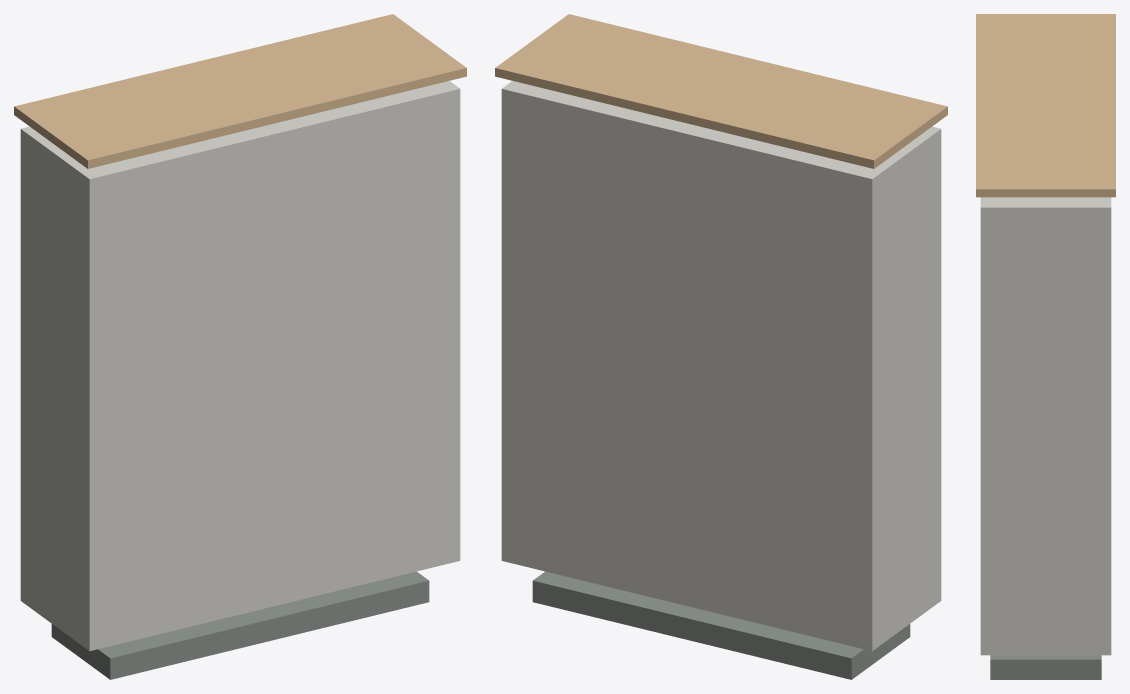
Rendered from wardrobe.glb.
The picture shows the model from 3 angles, left to right: view 1: azimuth 30°, elevation 25°; view 2: azimuth 150°, elevation 25°; view 3: azimuth 270°, elevation 25°; orthographic projection. The views are drawn at different scales.
Visible parts, largest first — view 1: wardrobe_ivory_0, wardrobe_oak_1, wardrobe_dark_2; view 2: wardrobe_ivory_0, wardrobe_oak_1, wardrobe_dark_2; view 3: wardrobe_ivory_0, wardrobe_oak_1, wardrobe_dark_2.
Part boxes in pixels (<box>): wardrobe_ivory_0: <box>20,81,460,651</box>; wardrobe_oak_1: <box>14,14,466,168</box>; wardrobe_dark_2: <box>51,571,429,679</box>; wardrobe_ivory_0: <box>501,81,941,651</box>; wardrobe_oak_1: <box>495,14,947,168</box>; wardrobe_dark_2: <box>532,571,910,679</box>; wardrobe_ivory_0: <box>980,197,1111,655</box>; wardrobe_oak_1: <box>976,14,1115,197</box>; wardrobe_dark_2: <box>990,655,1101,679</box>.
Bounding box in the file's own units: 1.84 × 2.47 × 0.62.
